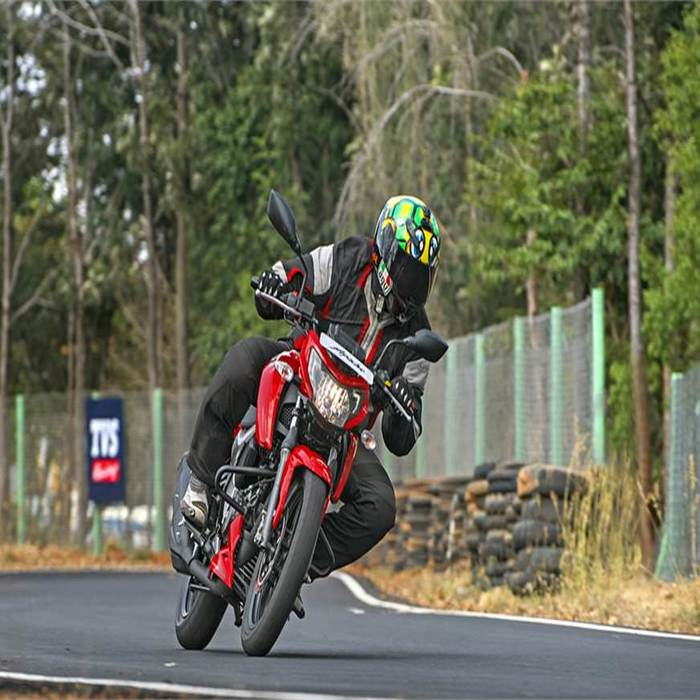h: (369, 193, 444, 329)
